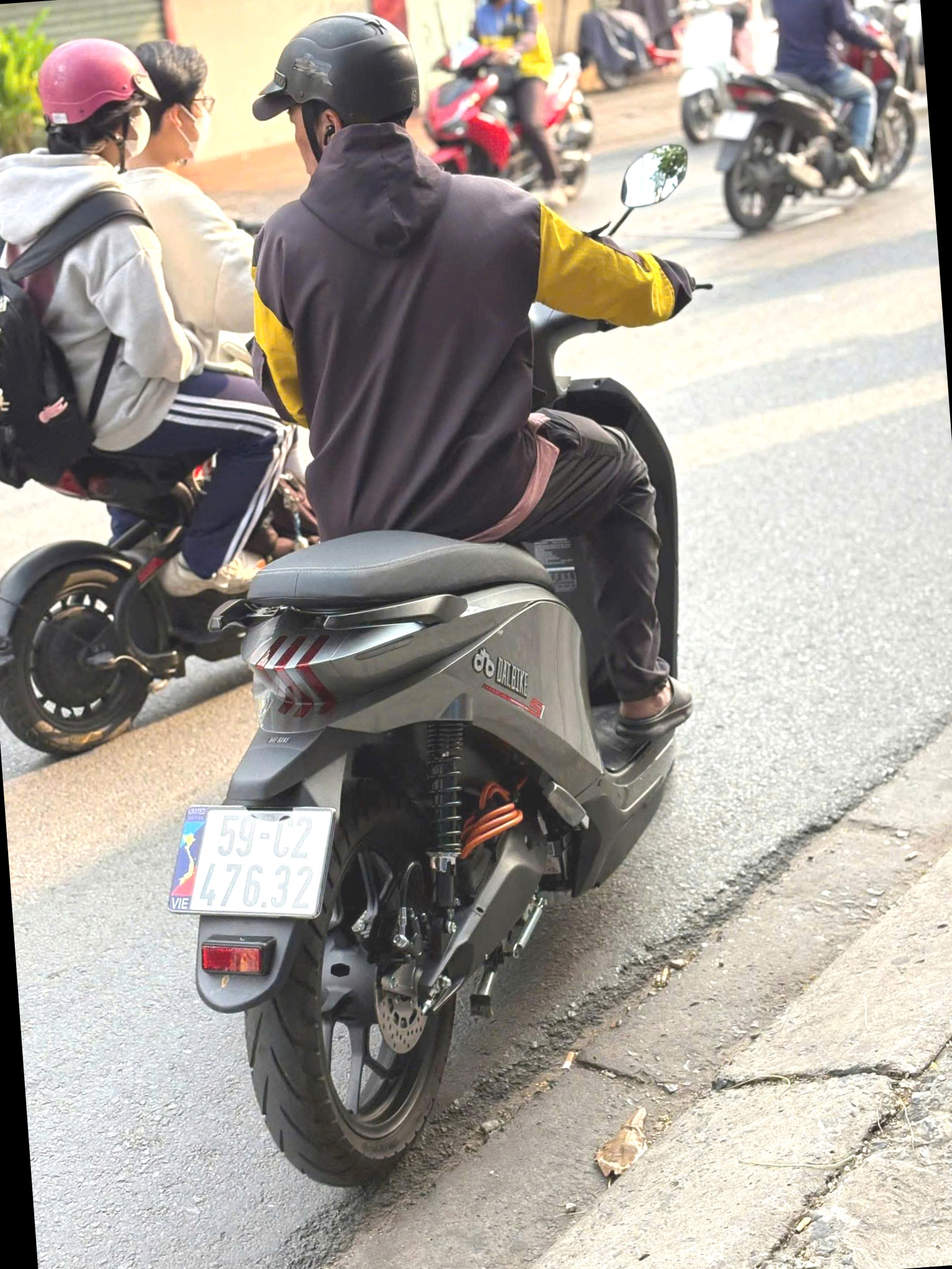Bien-so: (185, 796, 338, 930)
